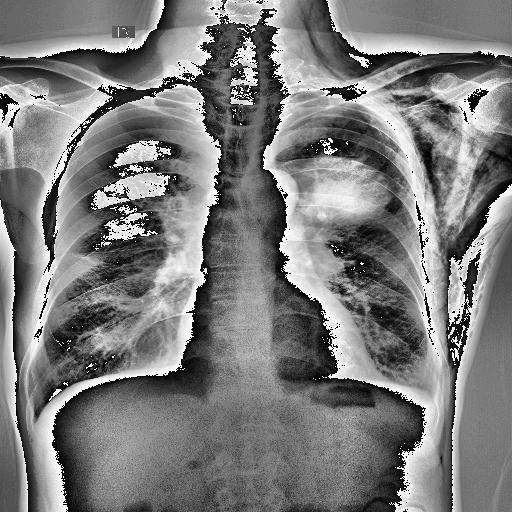11- Pleural thickening: (346, 96, 402, 140), (416, 375, 443, 406)
12- Pneumothorax: (279, 92, 377, 120), (416, 375, 443, 406)
13- Pulmonary fibrosis: (66, 250, 104, 266), (112, 191, 149, 207), (60, 250, 96, 264), (68, 252, 102, 262)
8- Nodule-Mass: (296, 155, 393, 218), (300, 156, 391, 222), (304, 156, 383, 214)
9- Other lesion: (296, 0, 510, 366), (398, 92, 498, 368), (298, 2, 434, 94), (428, 116, 462, 356)
